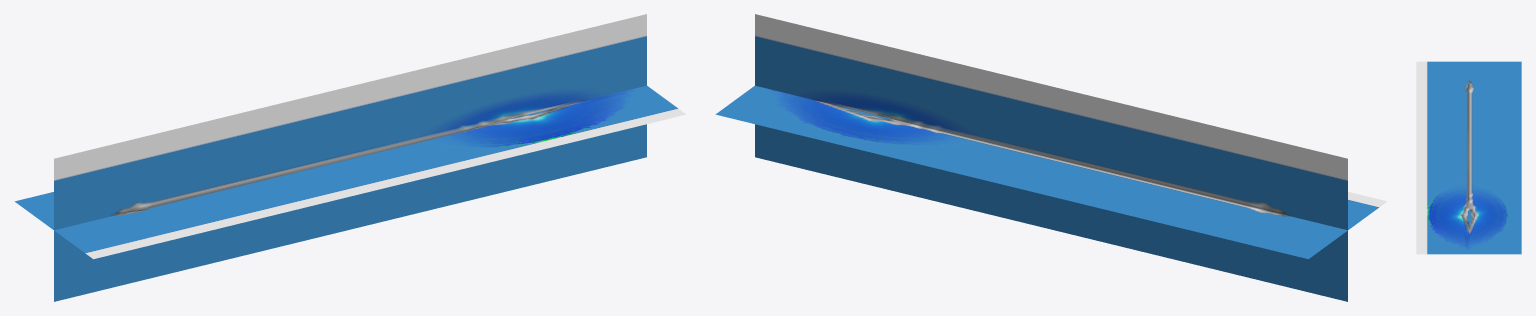
The model's file is mao_fumo.FBX.
3 renders of one model, left to right at view 1: azimuth 30°, elevation 25°; view 2: azimuth 150°, elevation 25°; view 3: azimuth 270°, elevation 25°, orthographic. The views are drawn at different scales.
Parts seen in each view (by area): view 1: Plane002; view 2: Plane002; view 3: Plane002.
Part boxes in pixels (<box>): Plane002: <box>14,14,686,301</box>; Plane002: <box>715,14,1387,301</box>; Plane002: <box>1416,61,1521,254</box>.
Size of the model in its own units: 260 by 60 by 60.
1 material, 1 textured.
